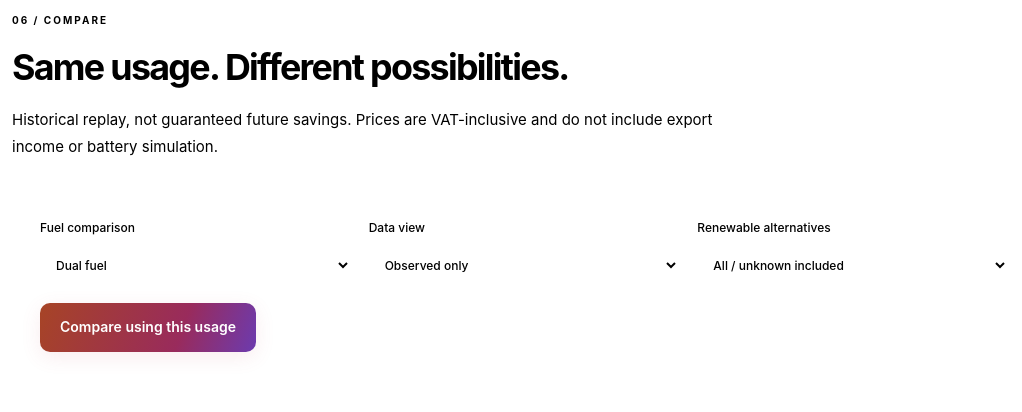
Test: page journeys › terminates an active replay worker when controls change
Step 1. Click the button "Compare using this usage" → x=148, y=327, box left=40, top=303, right=256, bottom=352
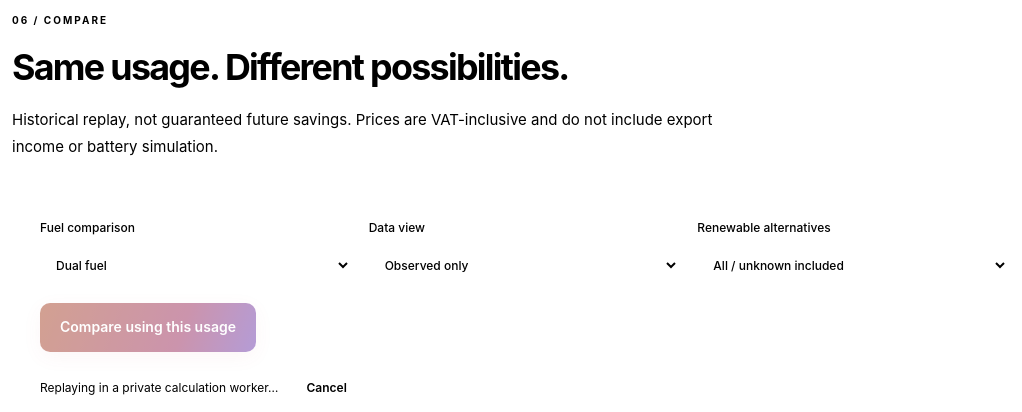
Step 2. Select "Electricity only" in the dropdown labelled "Fuel comparison" → x=195, y=266, box left=40, top=244, right=351, bottom=287
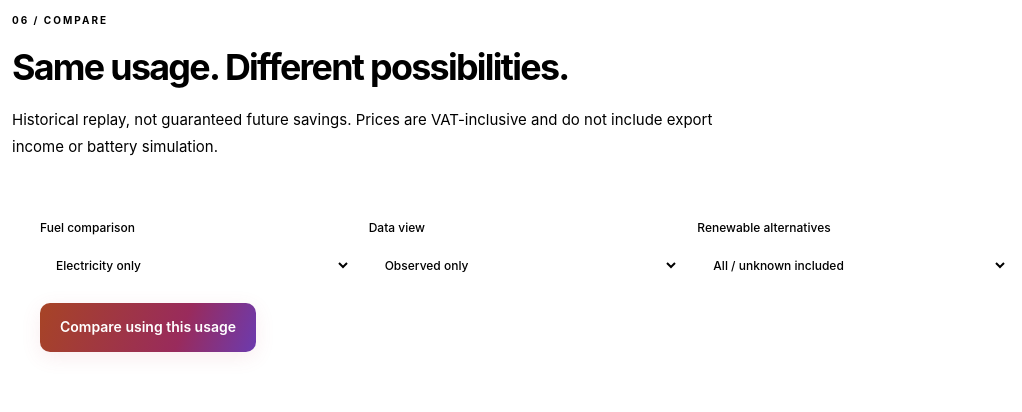
Now the button "Compare using this usage" is enabled, box left=40, top=303, right=256, bottom=352
